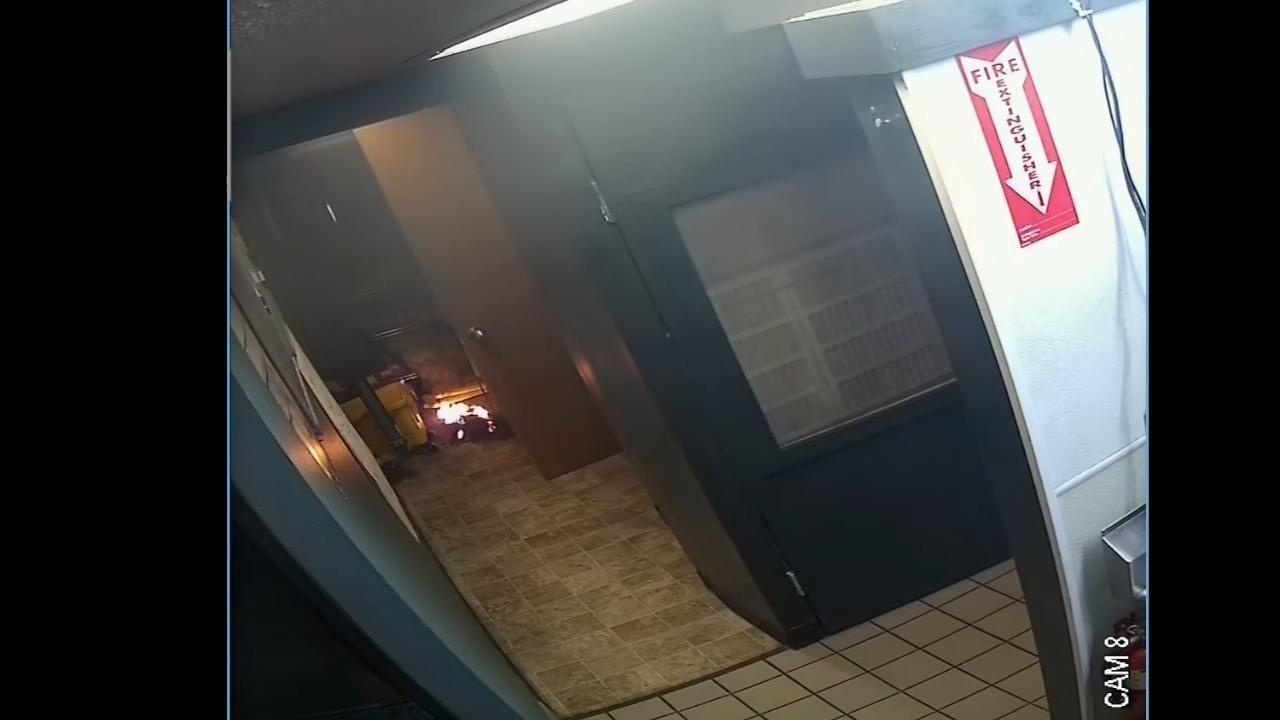fire: (437, 399, 490, 424)
